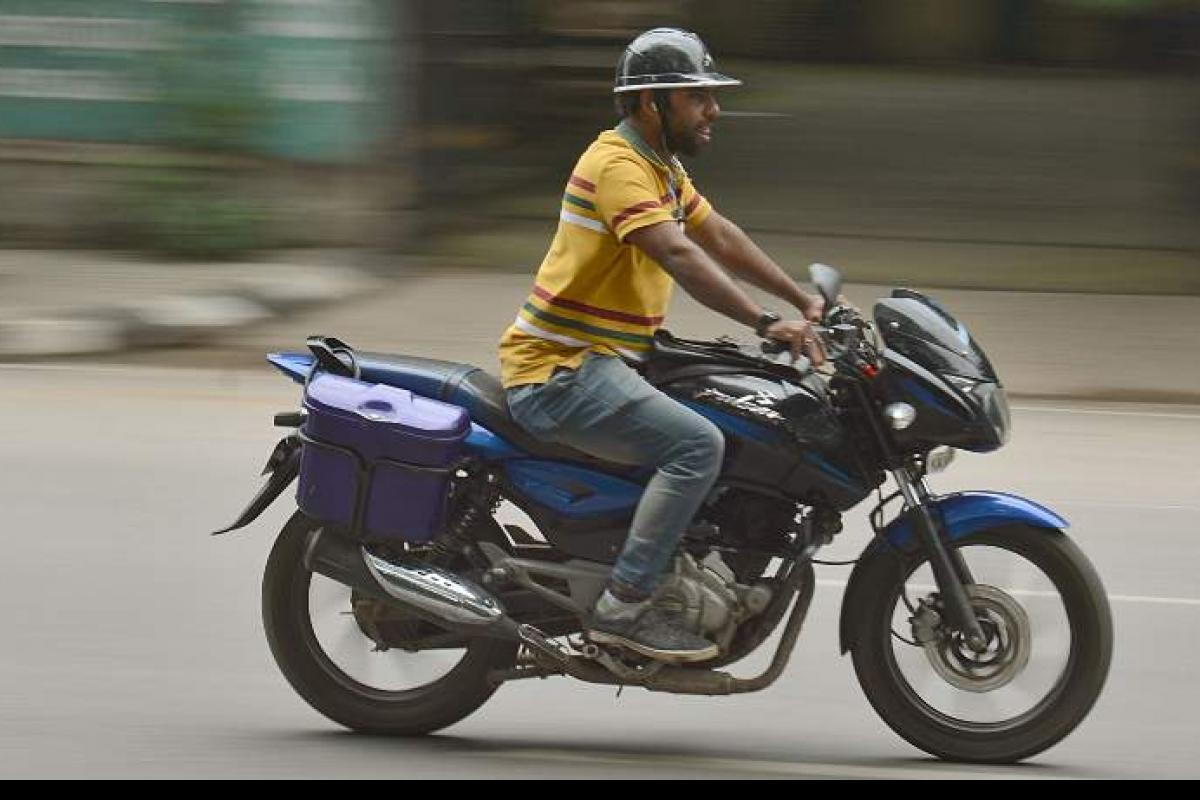helmet: (586, 7, 750, 155)
